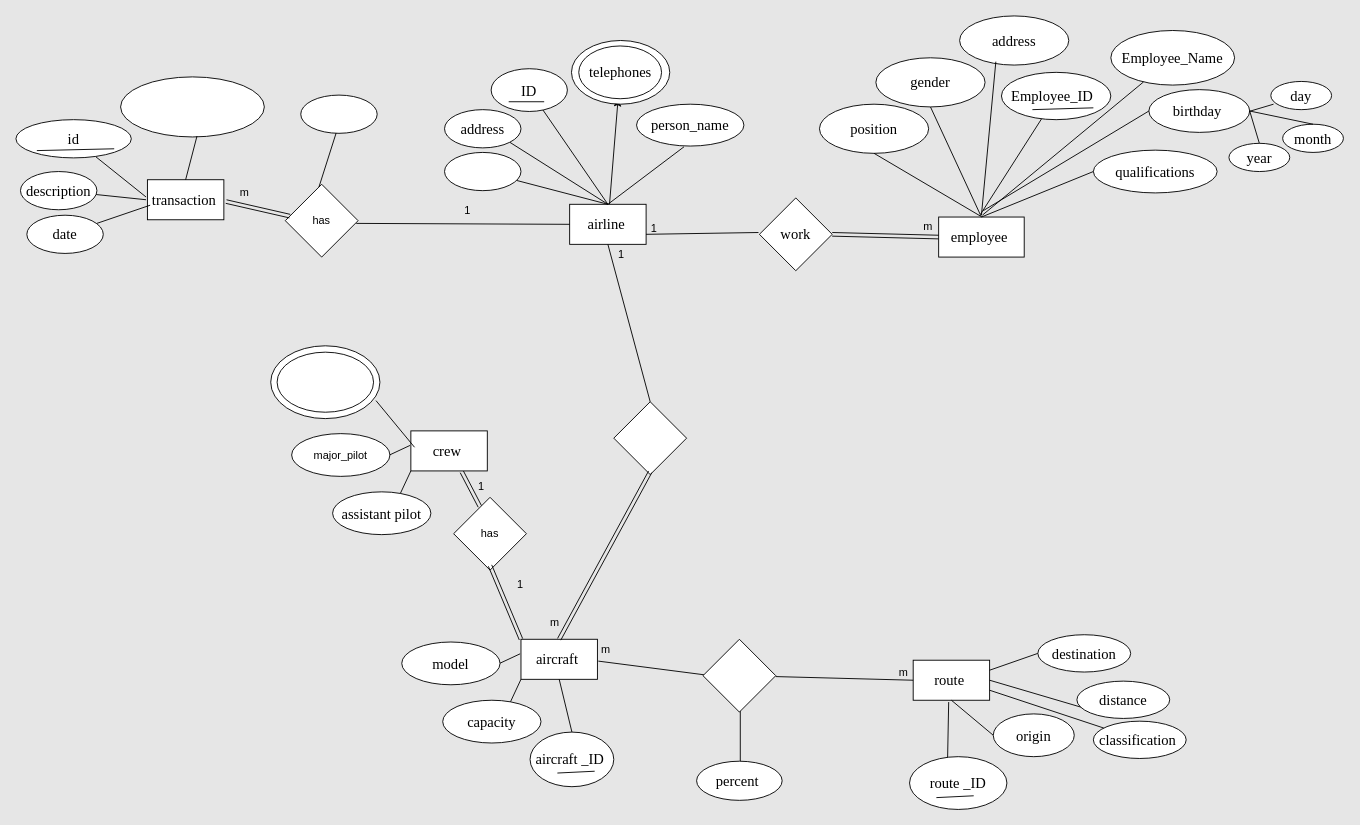
This 1360x825 diagram has some shape labels left out. The centre of each missing label's shape, as x and y in pixels:
amount: pixel 192 106
fly: pixel 739 675
hostesses: pixel 325 381
name: pixel 482 171
owns: pixel 650 438
type: pixel 338 113
